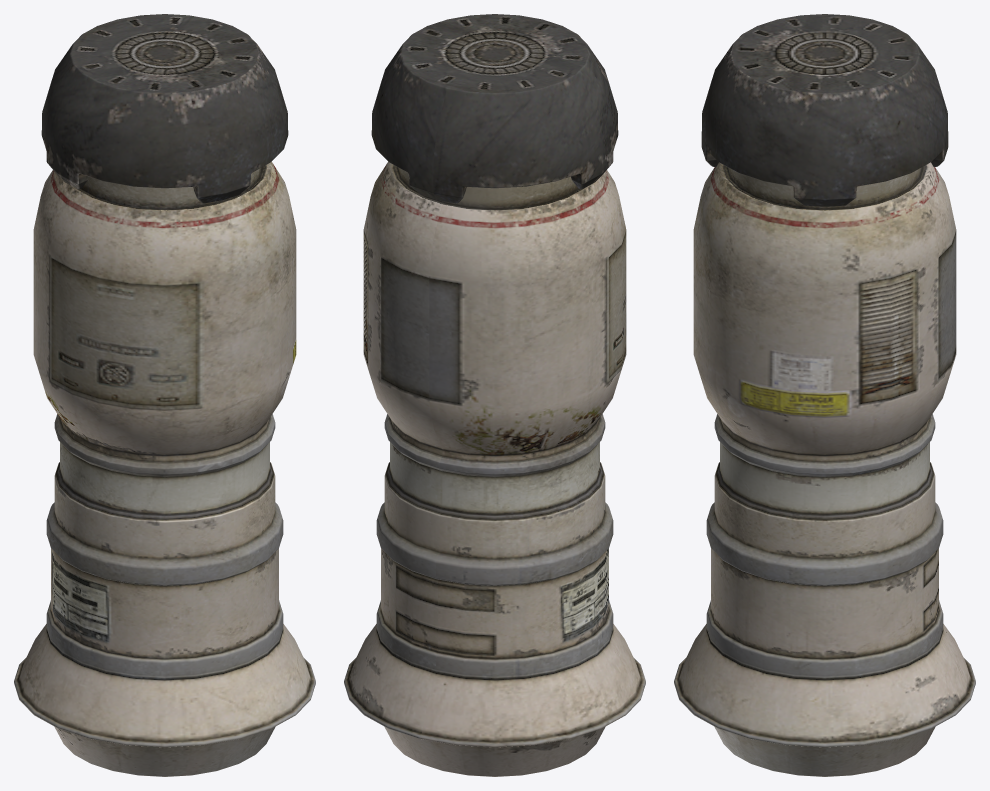
File: prop_capsule.fbx
3 renders of one model, left to right at view 1: azimuth 30°, elevation 25°; view 2: azimuth 150°, elevation 25°; view 3: azimuth 270°, elevation 25°, orthographic.
Visible parts, largest first — view 1: prop_capsule_001; view 2: prop_capsule_001; view 3: prop_capsule_001.
Boxes of the visible parts, x1,y1,x2,y2 form: prop_capsule_001: (14, 14, 315, 776); prop_capsule_001: (344, 14, 645, 776); prop_capsule_001: (674, 14, 975, 776).
Size of the model in its own units: 51.09 by 127 by 51.09.
